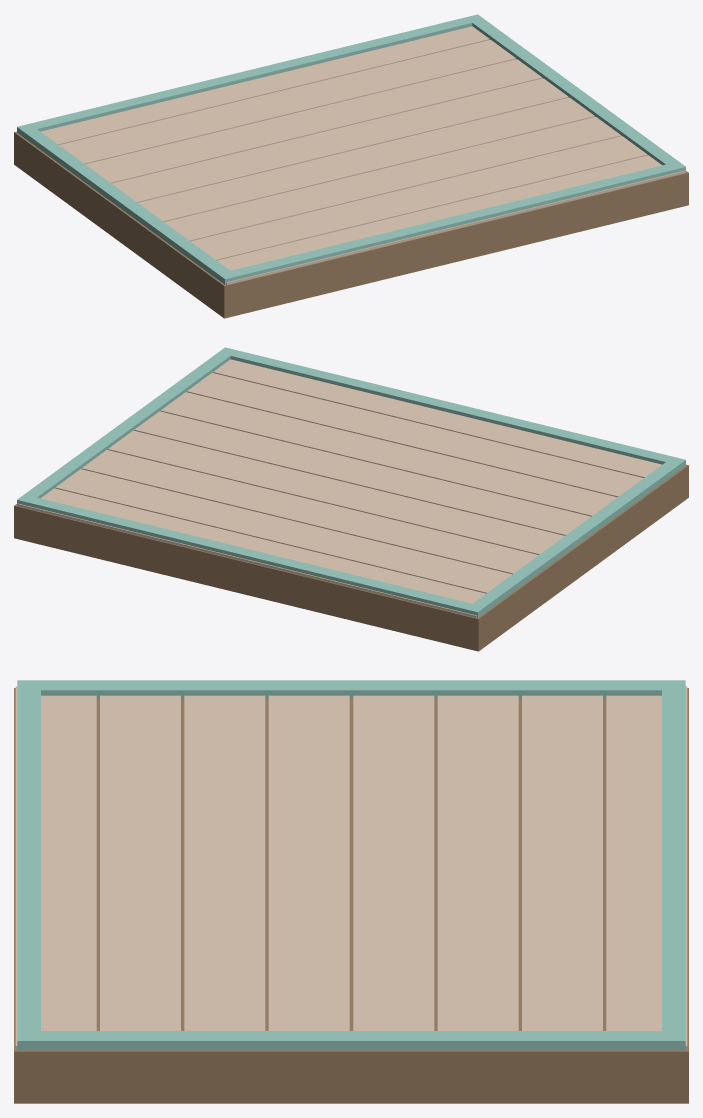
File: StableCourtTile.glb
The picture shows the model from 3 angles, top to bottom: view 1: azimuth 30°, elevation 25°; view 2: azimuth 150°, elevation 25°; view 3: azimuth 270°, elevation 25°; orthographic projection. The views are drawn at different scales.
Visible parts, largest first — view 1: StableCourtTile; view 2: StableCourtTile; view 3: StableCourtTile.
Boxes of the visible parts, left/top/right/bottom form: StableCourtTile: left=14, top=14, right=688, bottom=318; StableCourtTile: left=14, top=347, right=688, bottom=651; StableCourtTile: left=14, top=680, right=688, bottom=1103.
Size of the model in its own units: 5.1 by 0.4 by 4.
